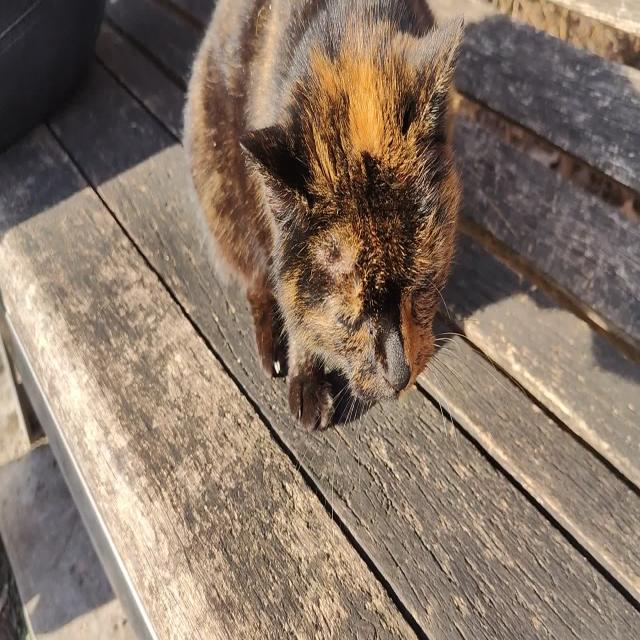cat: (182, 0, 463, 434)
